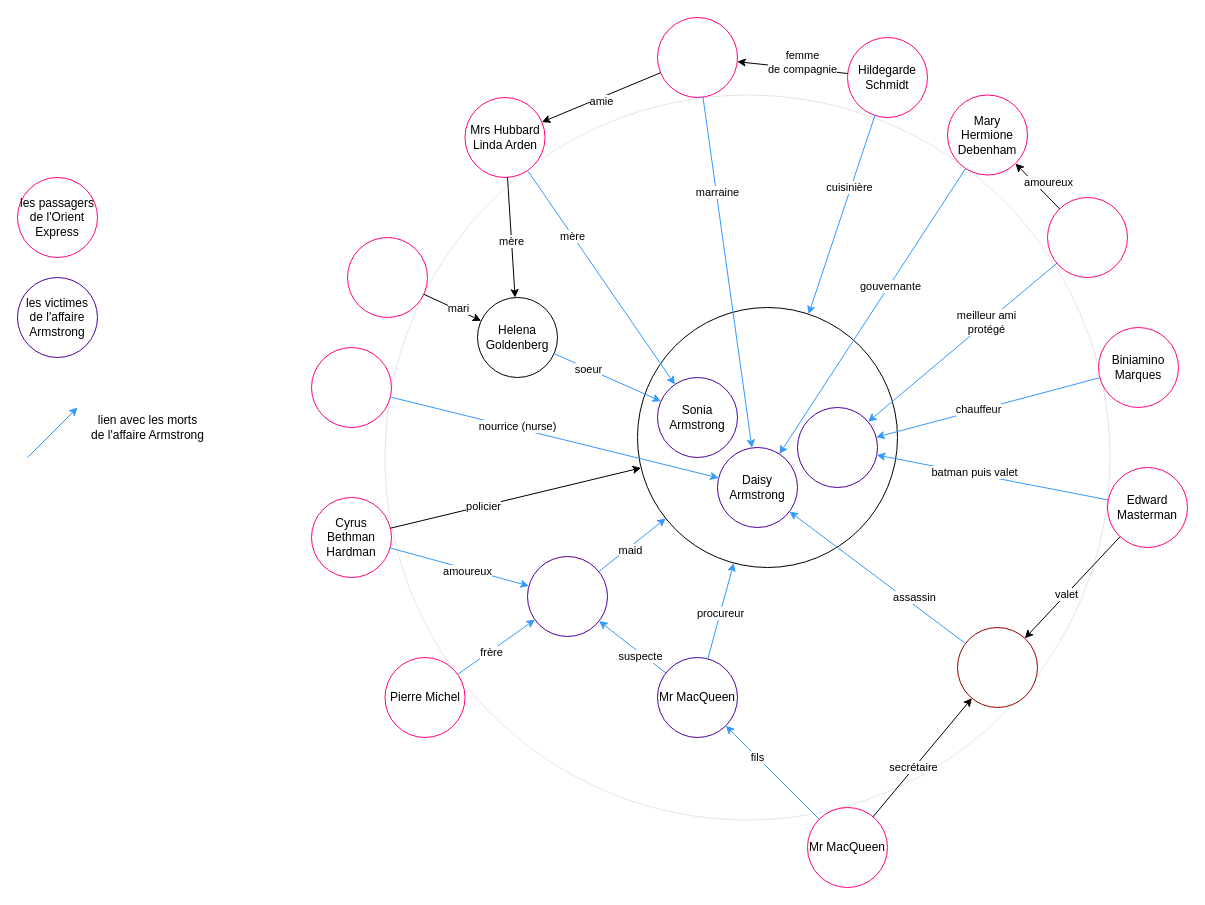
Some shapes in this 1205 by 905 pixel diagram are drawn without their labels. The centre of each missing label's shape, as x and y in pixels:
Count Andrenyi: the point at 387,277
Dr Aburhnot: the point at 1087,237
John Armstrong: the point at 837,447
Pilar Estravados: the point at 351,387
Princess Natalia Dragomiroff: the point at 697,57
Ratchet/Cassetti: the point at 997,667
Susanne Michel: the point at 567,596
